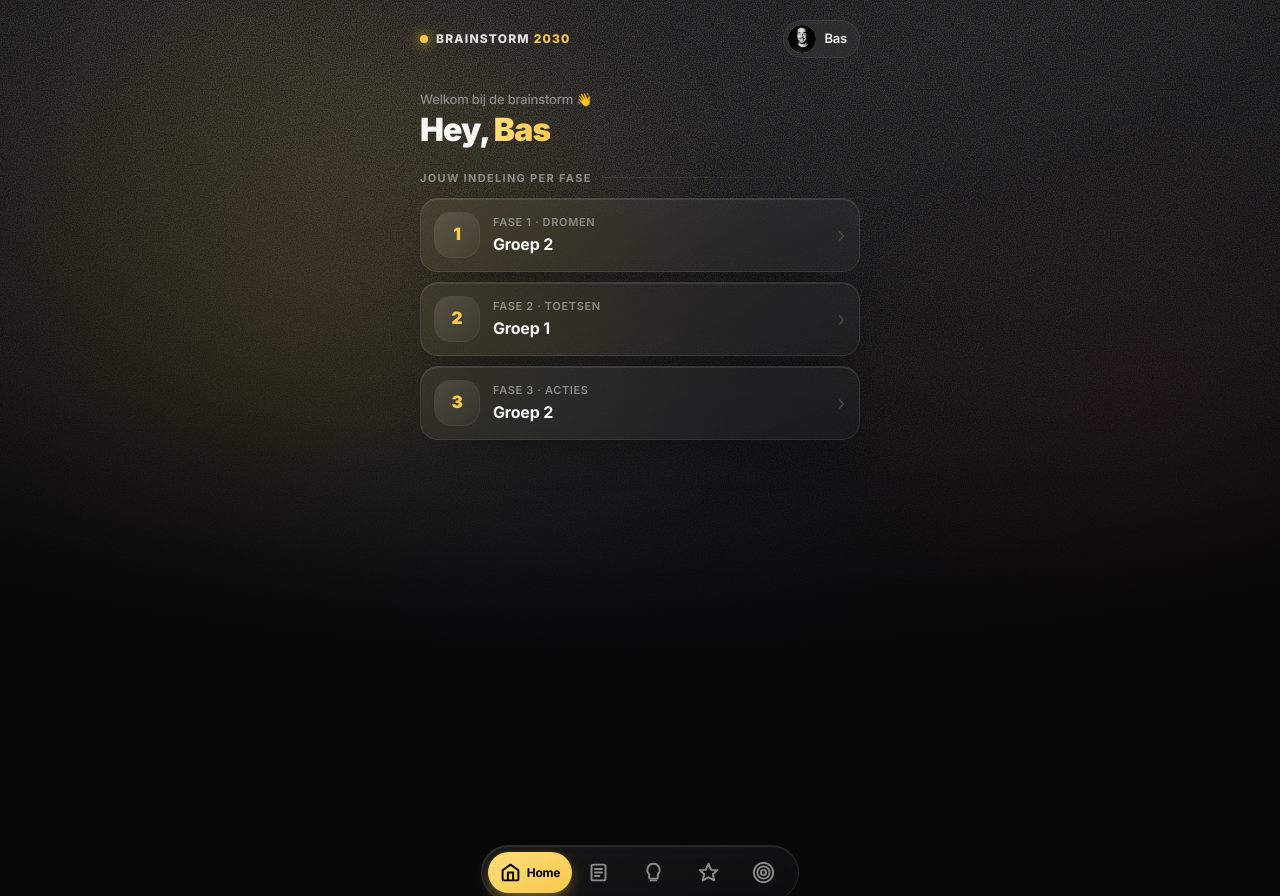
App flow › returns to the picker when changing user
This screenshot has width=1280, height=896.
What coordinates should you click on to do the following:
click the button with aria-label "Naam wijzigen"
I would click on:
 (822, 39)
Its box is x1=783 y1=20 x2=860 y2=58.
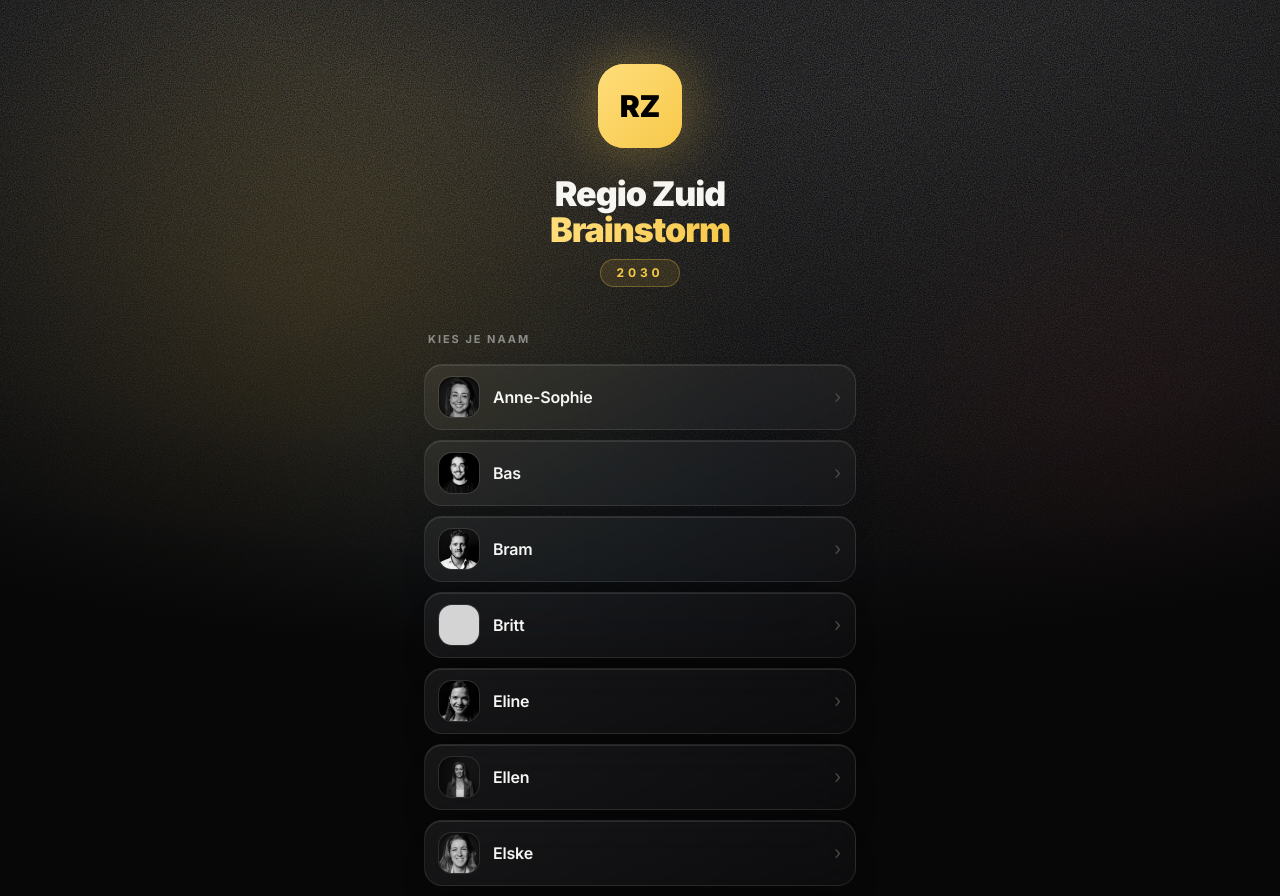
Check: the text "Kies je naam" is shown, box x1=424 y1=331 x2=530 y2=348
